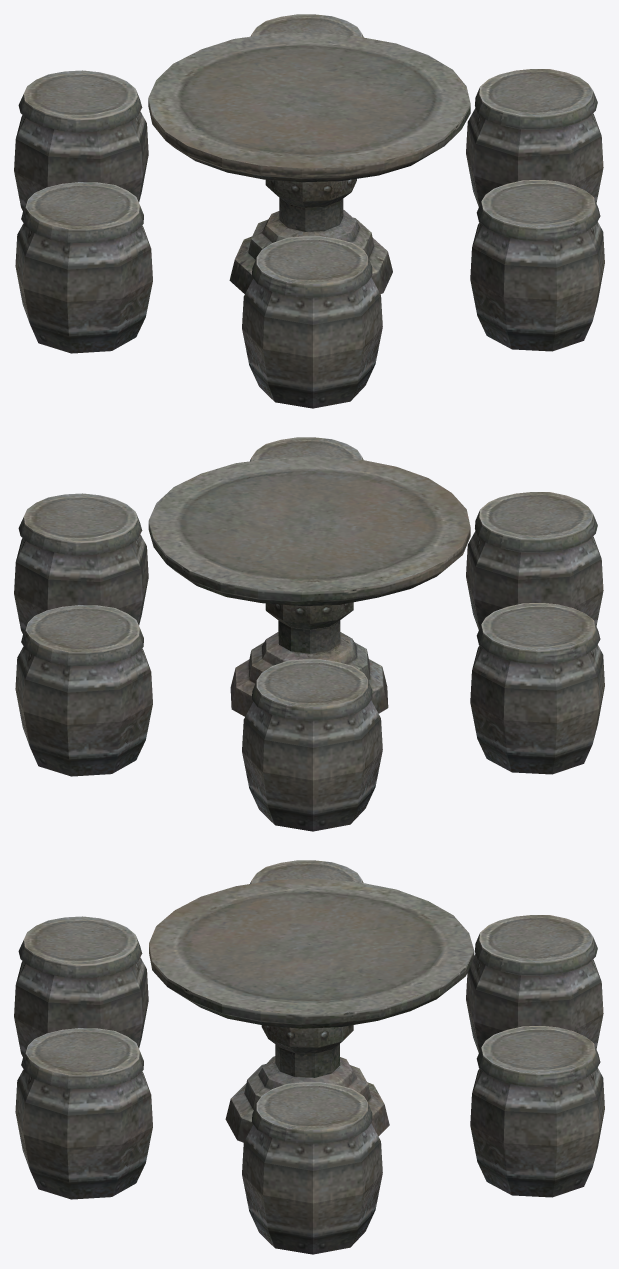
The model's file is 石桌凳01.fbx.
The picture shows the model from 3 angles, top to bottom: view 1: azimuth 30°, elevation 25°; view 2: azimuth 150°, elevation 25°; view 3: azimuth 270°, elevation 25°; orthographic projection.
Visible parts, largest first — view 1: qingmo_obj_268 [10484609]; view 2: qingmo_obj_268 [10484609]; view 3: qingmo_obj_268 [10484609].
Part boxes in pixels (<box>): qingmo_obj_268 [10484609]: <box>14,14,604,408</box>; qingmo_obj_268 [10484609]: <box>14,437,604,831</box>; qingmo_obj_268 [10484609]: <box>14,860,604,1254</box>.
Bounding box in the file's own units: 19.47 × 17.32 × 5.66.
1 material, 1 textured.
